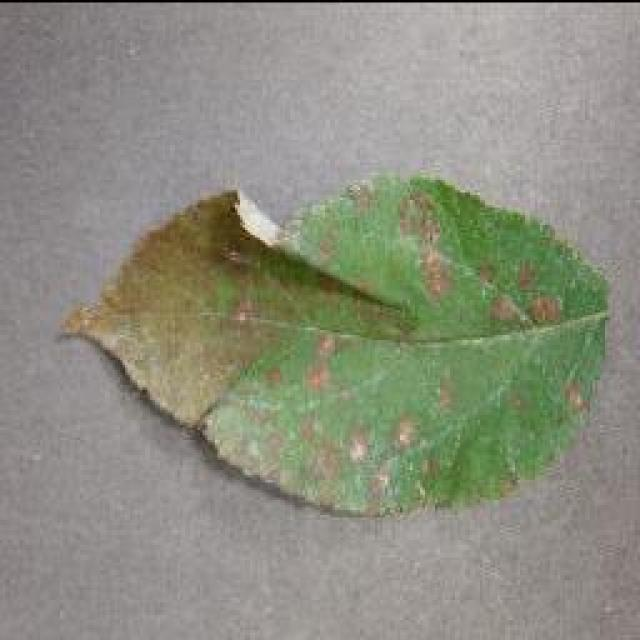apple scab disease: (58, 168, 612, 518)
